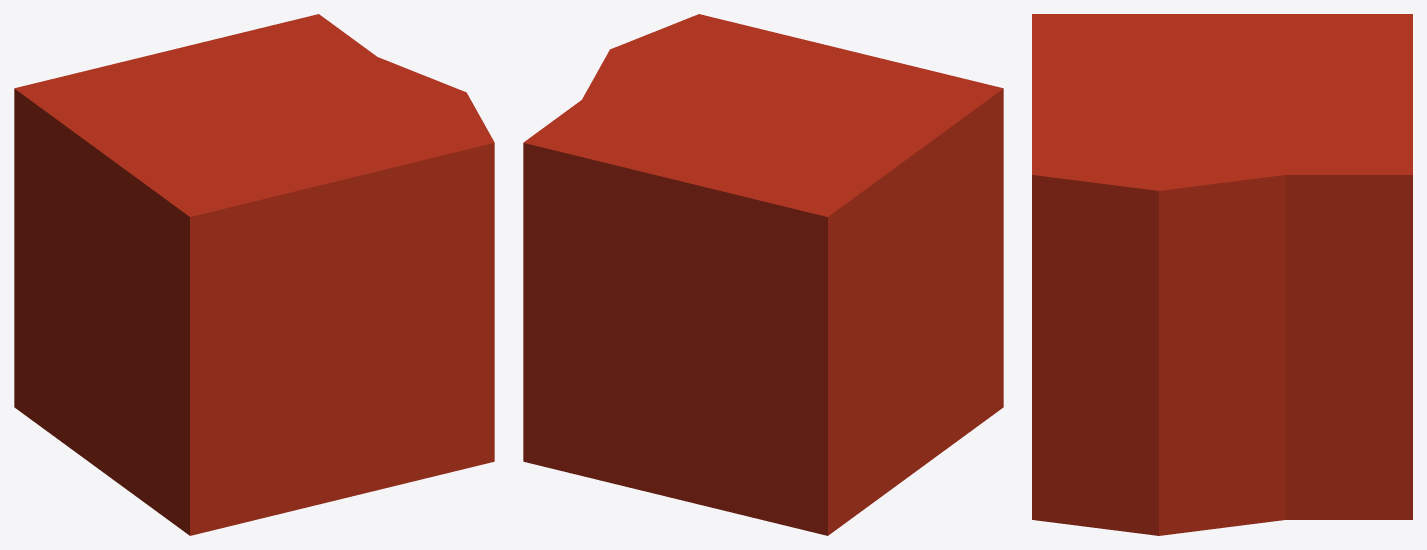
Rendered from ground_rock_side.glb.
The picture shows the model from 3 angles, left to right: view 1: azimuth 30°, elevation 25°; view 2: azimuth 150°, elevation 25°; view 3: azimuth 270°, elevation 25°; orthographic projection. The views are drawn at different scales.
Visible parts, largest first — view 1: ground_rock_side; view 2: ground_rock_side; view 3: ground_rock_side.
Part boxes in pixels (x1=…): ground_rock_side: x1=14, y1=14, x2=494, y2=535; ground_rock_side: x1=523, y1=14, x2=1003, y2=535; ground_rock_side: x1=1032, y1=14, x2=1412, y2=535.
Size of the model in its own units: 2.2 by 2 by 2.
